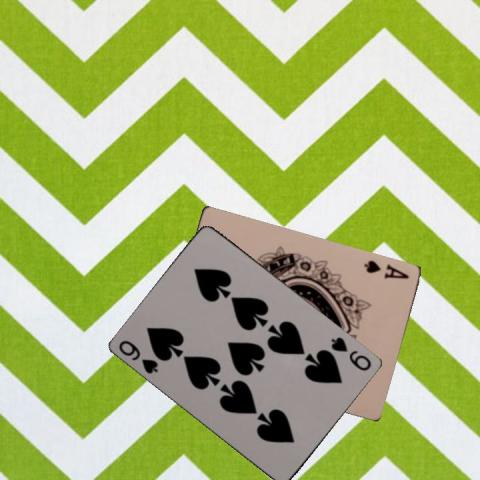9s: (328, 333, 373, 373), (115, 337, 160, 375)
As: (360, 257, 410, 281)
